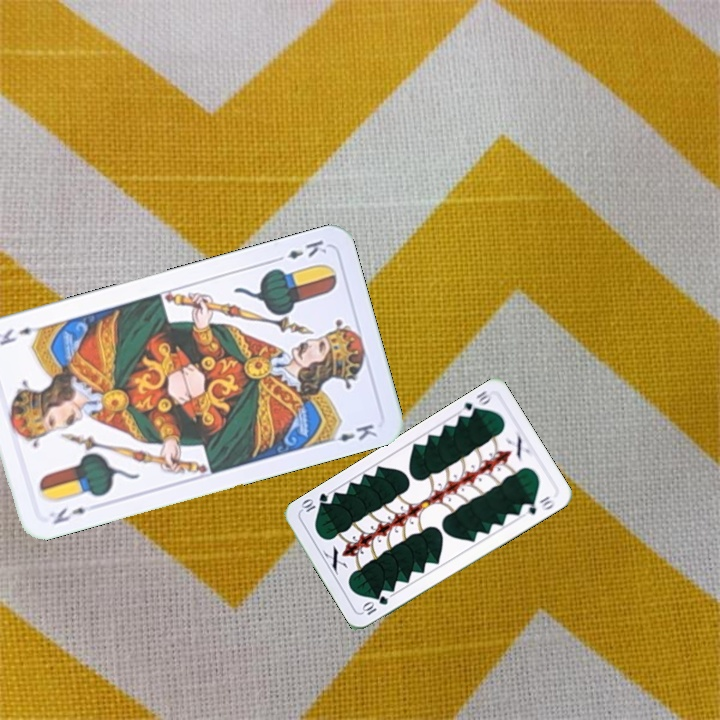EK: (270, 236, 330, 265), (49, 503, 89, 527)
G10: (456, 386, 493, 420), (358, 592, 391, 618)
